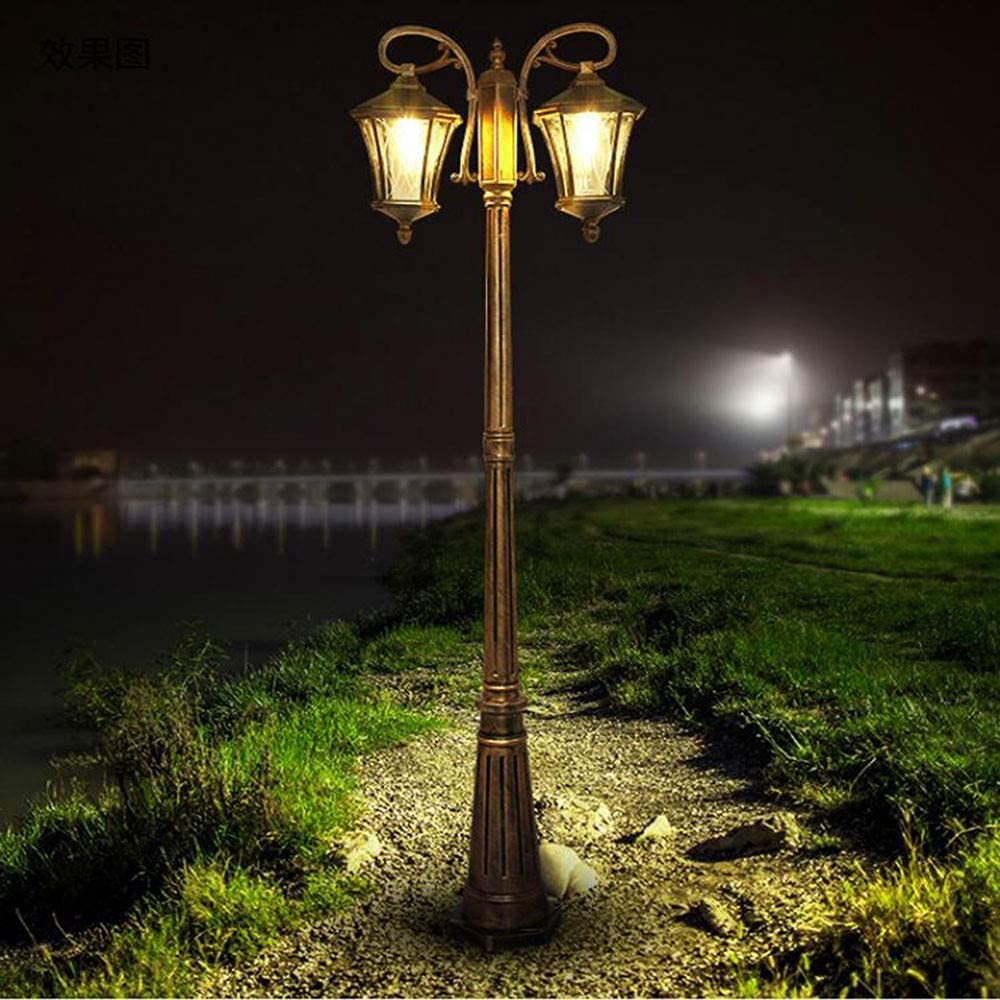Lamp: (351, 23, 673, 939)
